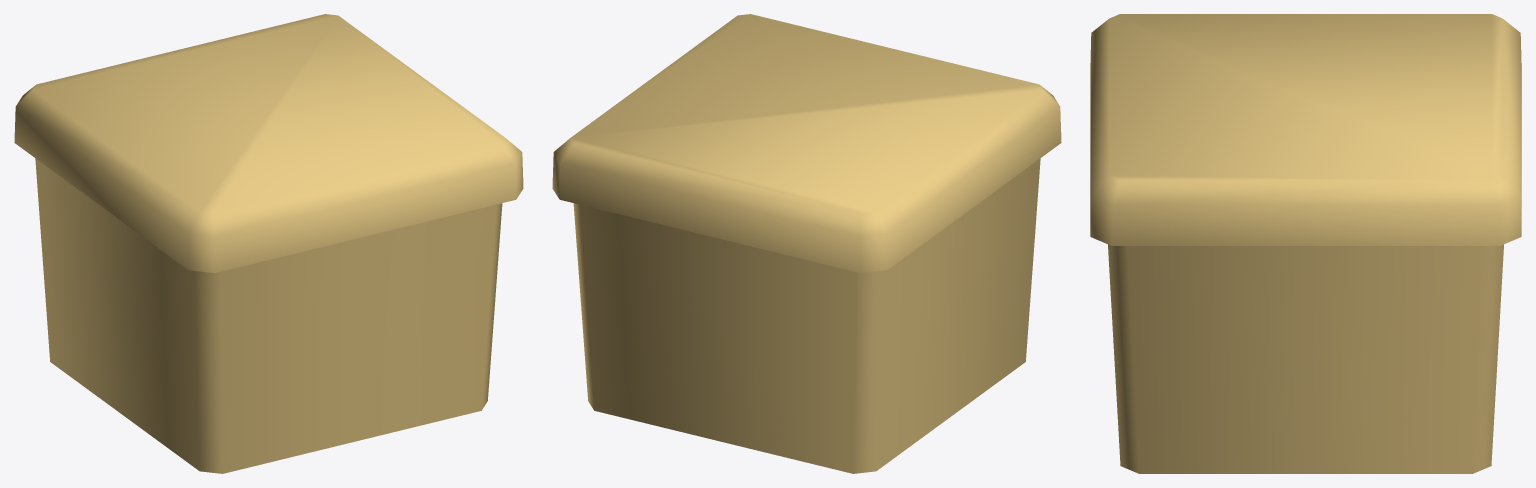
Rendered from Wicker1.fbx.
The picture shows the model from 3 angles, left to right: view 1: azimuth 30°, elevation 25°; view 2: azimuth 150°, elevation 25°; view 3: azimuth 270°, elevation 25°; orthographic projection. The views are drawn at different scales.
Parts seen in each view (by area): view 1: Wicker_big; view 2: Wicker_big; view 3: Wicker_big.
Part boxes in pixels (bbox=[...]): Wicker_big: bbox=[14, 14, 523, 473]; Wicker_big: bbox=[552, 14, 1061, 473]; Wicker_big: bbox=[1090, 14, 1521, 473].
Size of the model in its own units: 70.16 by 53.55 by 70.16.
